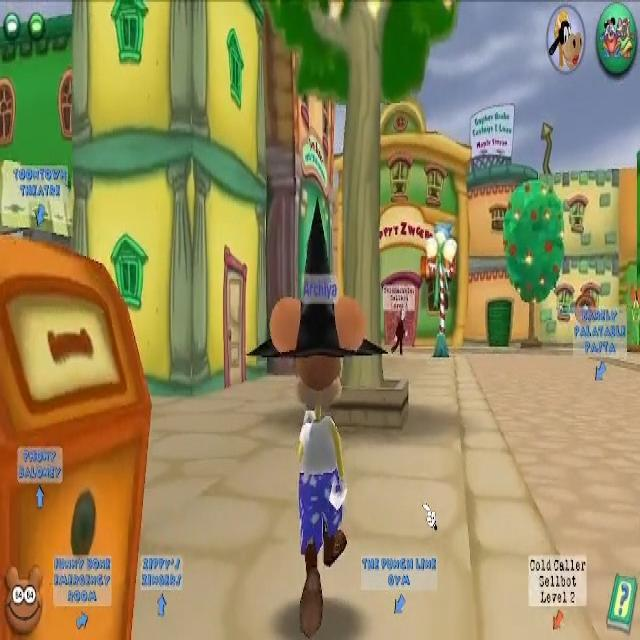telemarketer: (383, 284, 415, 358)
